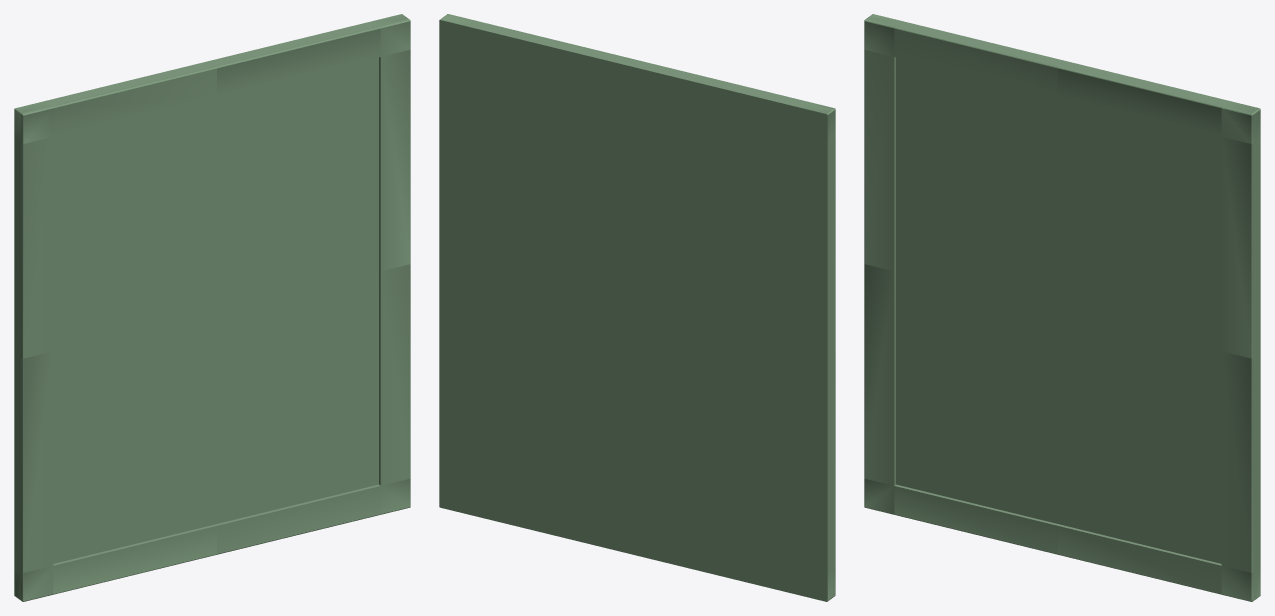
Rendered from door_1.glb.
3 renders of one model, left to right at view 1: azimuth 30°, elevation 25°; view 2: azimuth 150°, elevation 25°; view 3: azimuth 330°, elevation 25°, orthographic.
Visible parts, largest first — view 1: Plane; view 2: Plane; view 3: Plane.
Boxes of the visible parts, x1,y1,x2,y2 form: Plane: (14,14,410,601); Plane: (439,14,835,601); Plane: (864,14,1260,601).
Size of the model in its own units: 0.6 by 0.72 by 0.023.
